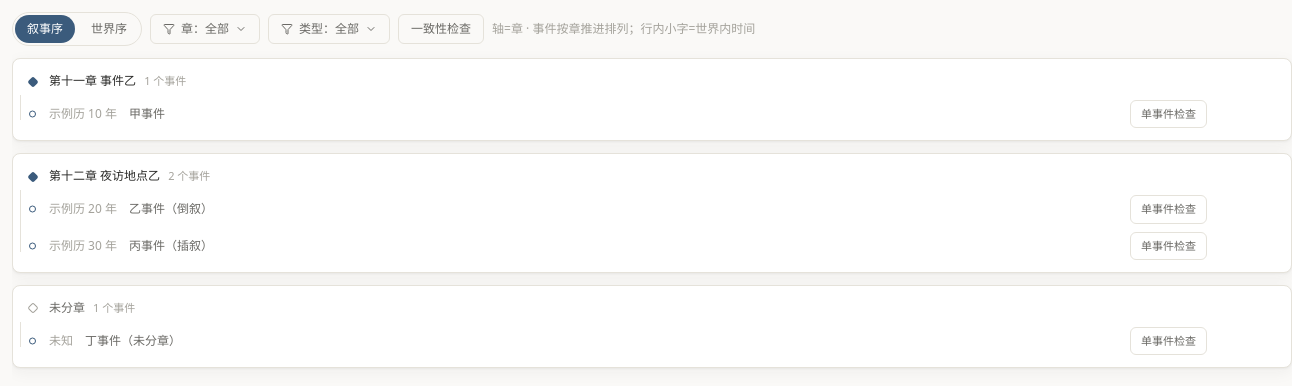
Test: #1374 时间线筛选（按章 / 按事件类型，两序共用） › F3 章筛选「未分章」：只显示 source_chapter_id 空的事件
Click the button with test id "tl-filter-chapter" at (205, 29), box [150, 14, 260, 44]
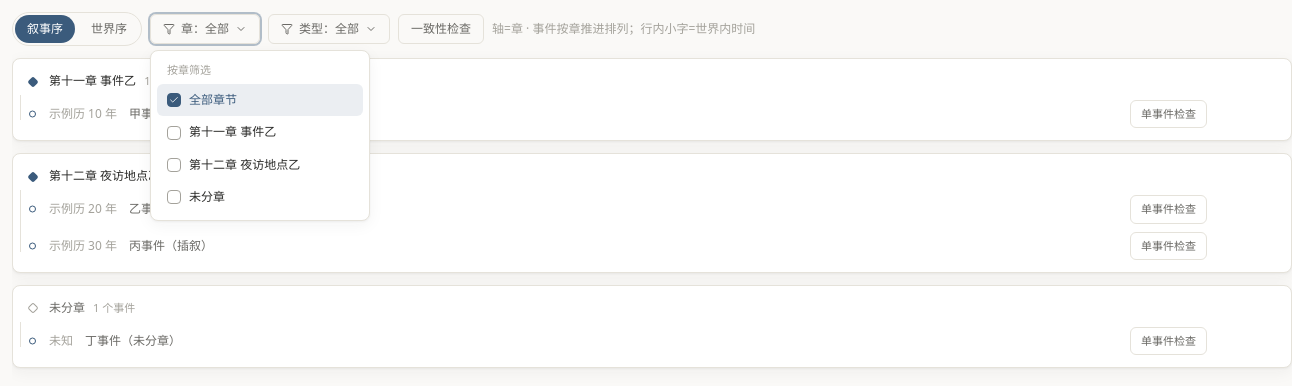
Click the button with test id "tl-fp-item-__none__" at (260, 198), box [157, 181, 363, 214]
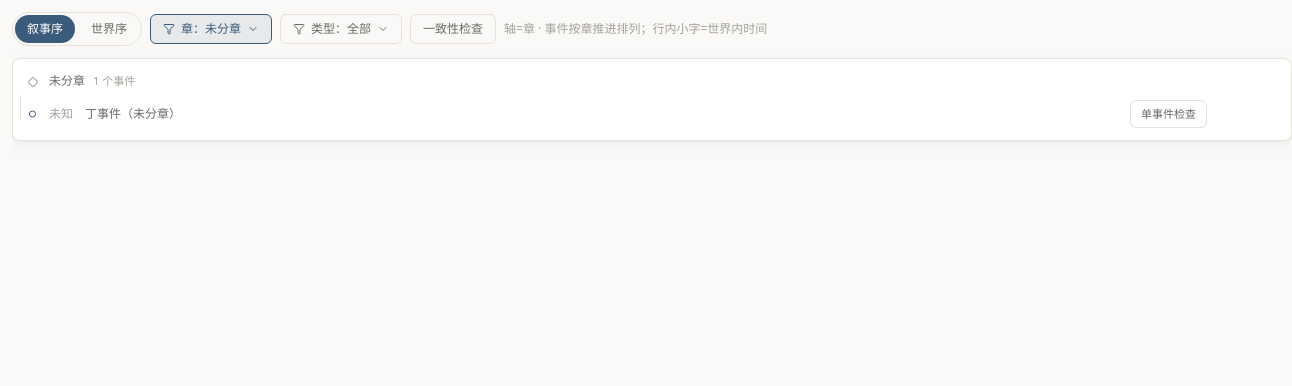
Result: the list item with test id "tl-axis-node-evA" is gone
